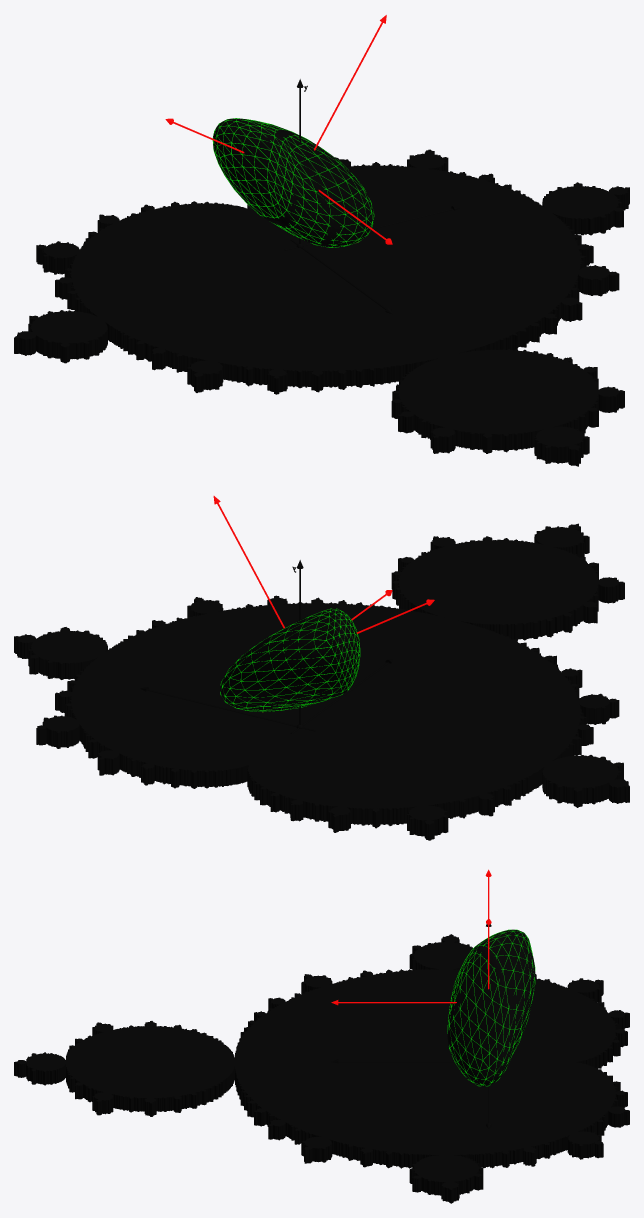
3 renders of one model, top to bottom at view 1: azimuth 30°, elevation 25°; view 2: azimuth 150°, elevation 25°; view 3: azimuth 270°, elevation 25°, orthographic. The views are drawn at different scales.
Bounding box in the file's own units: 4.03 × 1.42 × 4.1.
